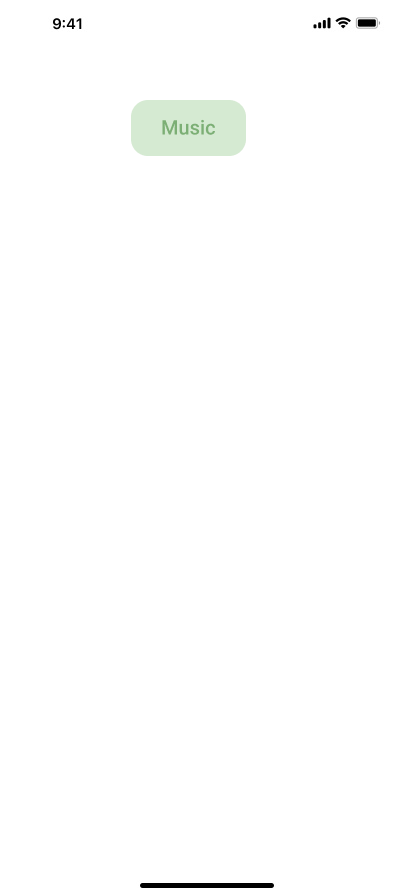Buttons: (131, 100, 254, 156)
Home Indicator: (0, 862, 414, 896)
Status Bar: (0, 0, 414, 44)
